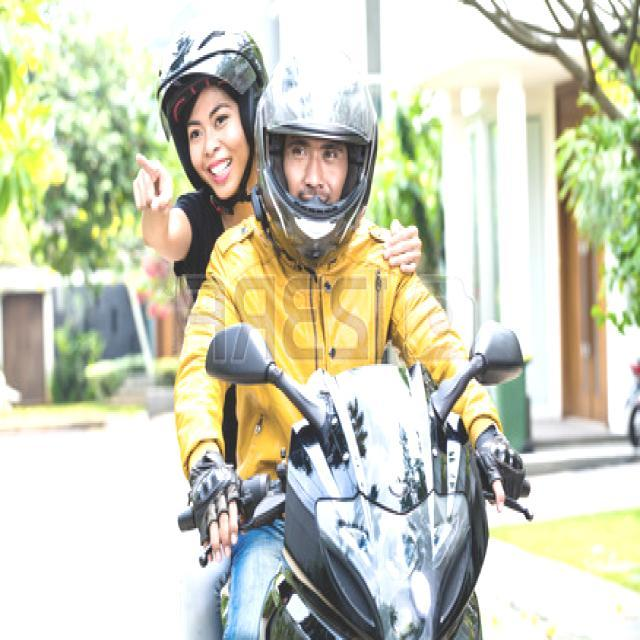Helmet: (245, 30, 386, 272)
